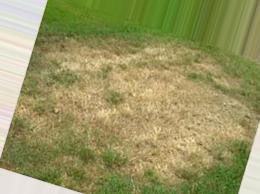patch: (57, 40, 181, 165), (171, 72, 231, 146)
